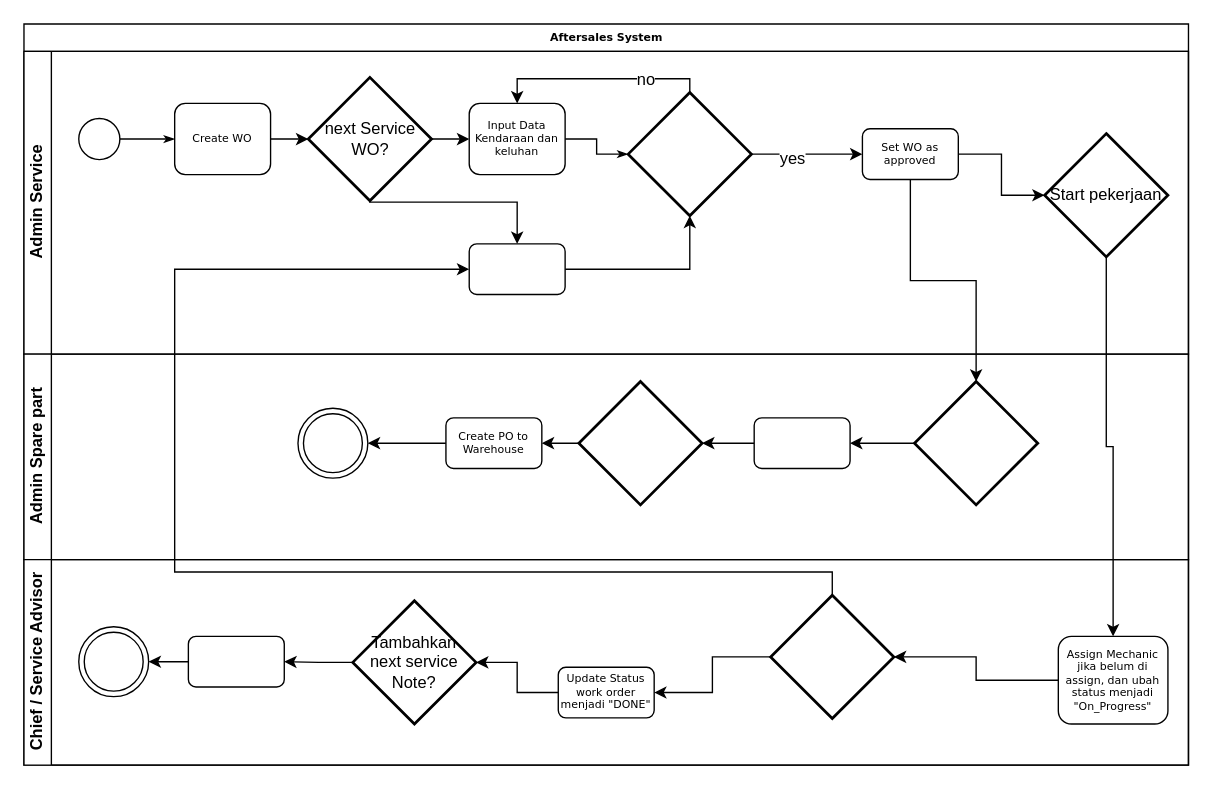
This 1212x789 diagram has some shape labels left out. Here are the shapes that lost their labels. From the top down, the centre of each, then its label:
(689,153): Form sudah sesuai ?
(516,268): Update Data Kendaraan dan keluhan
(640,442): spare part kosong
(801,442): change status to Deliver spare part
(975,442): Ada request spare part?
(235,661): Update WO Next Service note
(832,656): Cek pekerjaan
